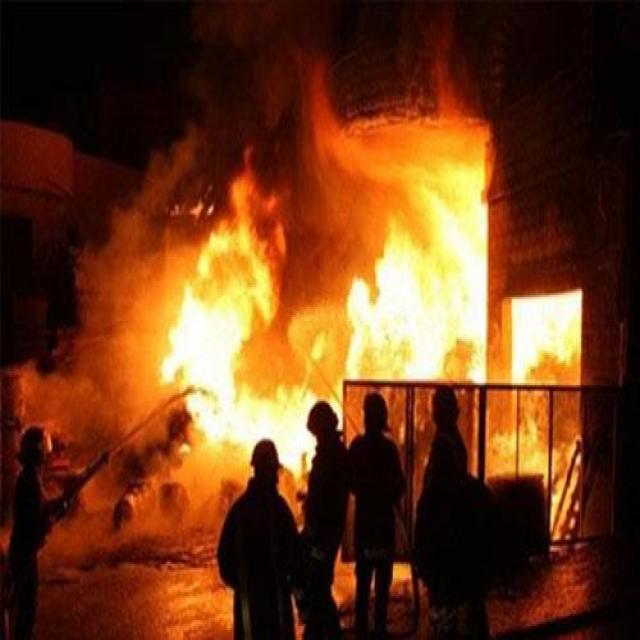Fire: (347, 201, 580, 479), (174, 239, 310, 463)
Smoke: (36, 38, 486, 558)
